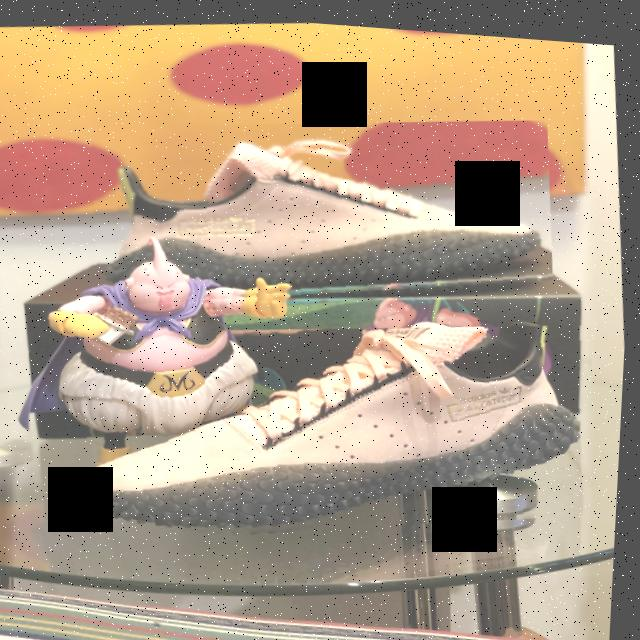shoe: (62, 285, 611, 570), (72, 84, 563, 332)
